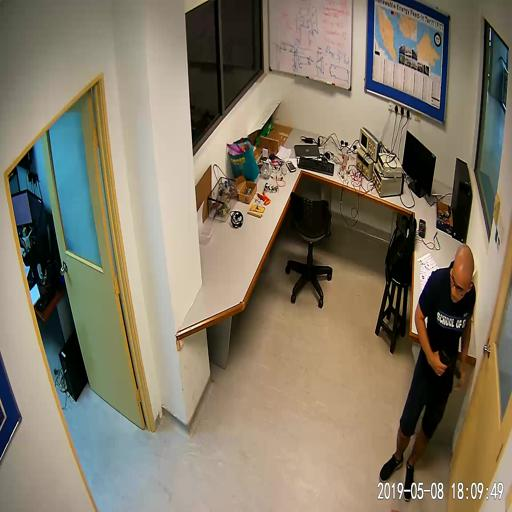pistol: (436, 347, 461, 377)
